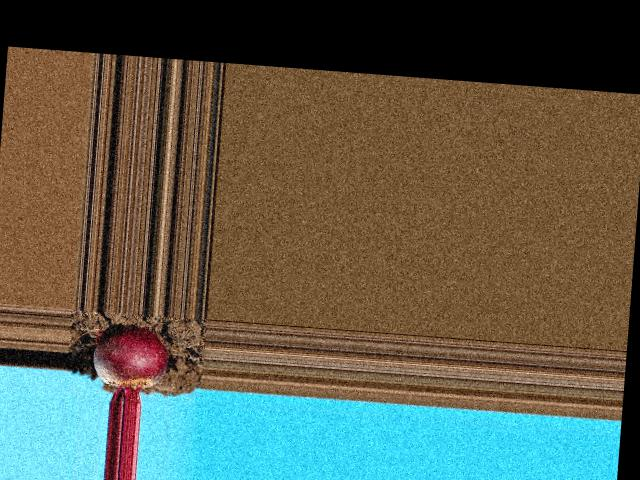beet: (89, 323, 170, 406)
